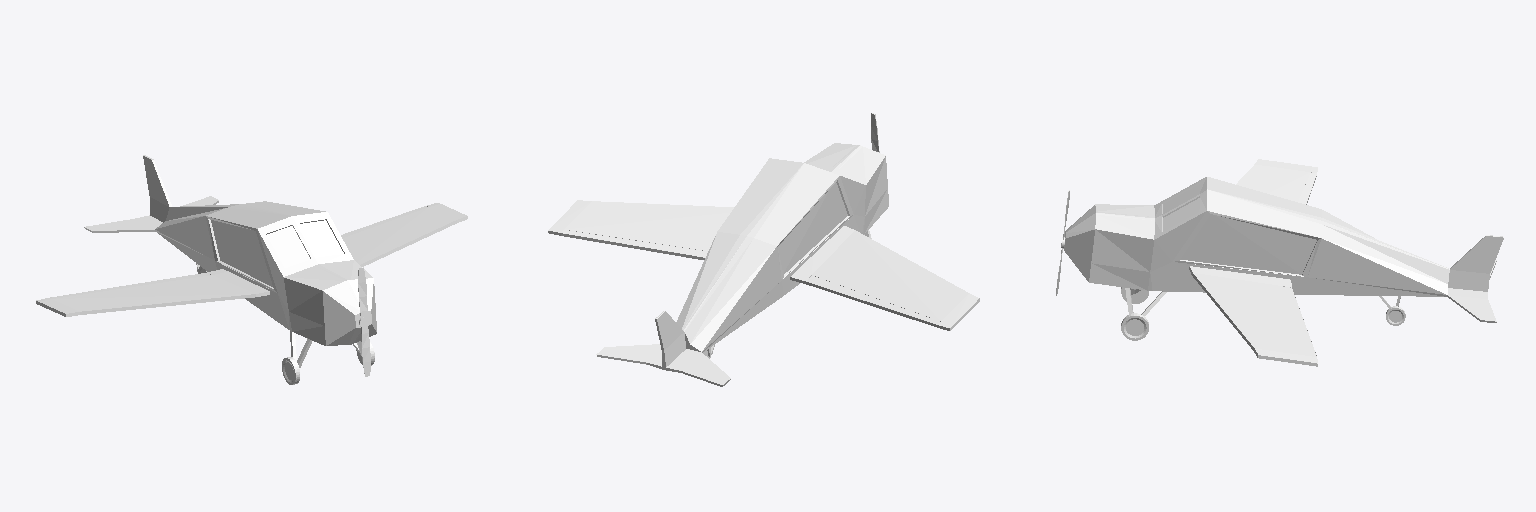
File: Small_plane.obj
3 views of the same model, side by side, from view 1: azimuth 30°, elevation 25°; view 2: azimuth 150°, elevation 25°; view 3: azimuth 270°, elevation 25° (orthographic).
Visible parts, largest first — view 1: Cube.001, Cube, Cylinder, Cylinder.001; view 2: Cube.001, Cube; view 3: Cube.001, Cube, Cylinder.001.
Part boxes in pixels (bbox=[...]): Cube.001: bbox=[84, 155, 376, 345]; Cube: bbox=[36, 203, 467, 316]; Cylinder: bbox=[358, 267, 370, 376]; Cylinder.001: bbox=[198, 268, 374, 384]; Cube.001: bbox=[596, 143, 888, 386]; Cube: bbox=[548, 200, 979, 330]; Cube.001: bbox=[1064, 177, 1503, 322]; Cube: bbox=[1189, 159, 1317, 366]; Cylinder.001: bbox=[1121, 287, 1405, 340].
Bounding box in the file's own units: 10.47 × 3.31 × 10.12.